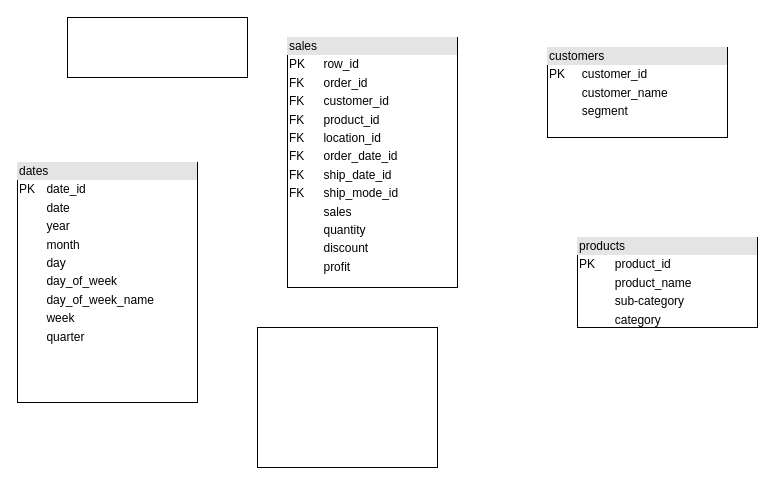
The diagram is 775 pixels wide and 485 high, and some of its shapes have lost their labels. The shapes that lost their labels are listed below. From the top down, each one's centre as x and y in pixels, then its label:
(x=157, y=47): ship_modes PK ship_mode_id ship_mode
(x=347, y=397): locations PK location_id country city state region postal_code
